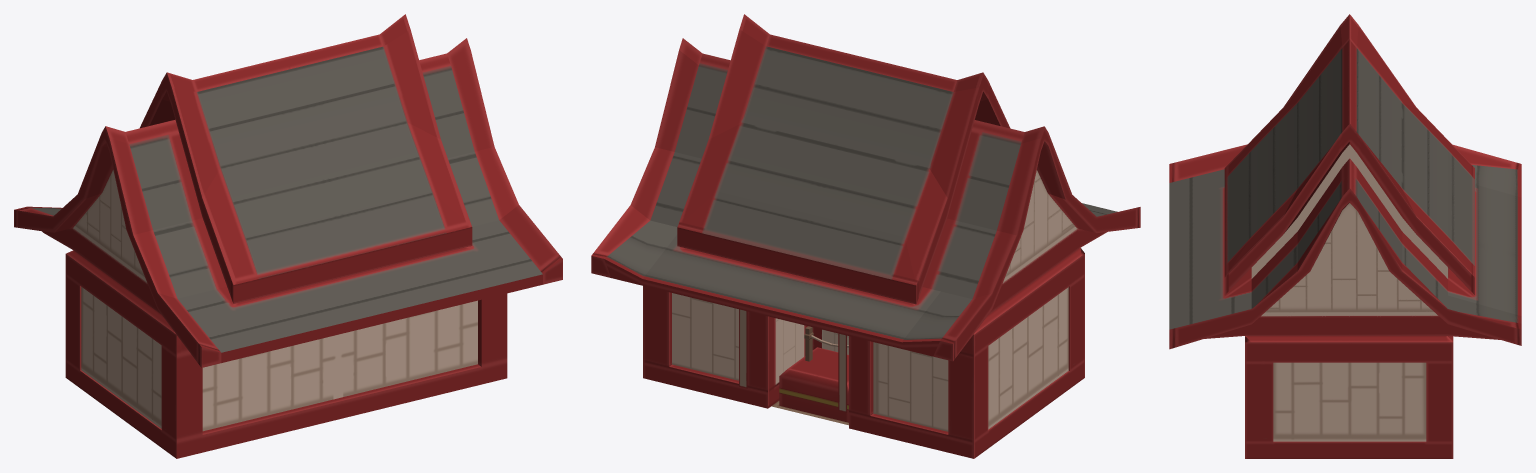
The model's file is Shrine.fbx.
3 renders of one model, left to right at view 1: azimuth 30°, elevation 25°; view 2: azimuth 150°, elevation 25°; view 3: azimuth 270°, elevation 25°, orthographic. The views are drawn at different scales.
Visible parts, largest first — view 1: Shrine_Mesh; view 2: Shrine_Mesh; view 3: Shrine_Mesh.
Boxes of the visible parts, left/top/right/bottom form: Shrine_Mesh: left=14, top=14, right=562, bottom=458; Shrine_Mesh: left=591, top=14, right=1140, bottom=458; Shrine_Mesh: left=1169, top=14, right=1521, bottom=458.
Size of the model in its own units: 8.04 by 7.11 by 7.22.
